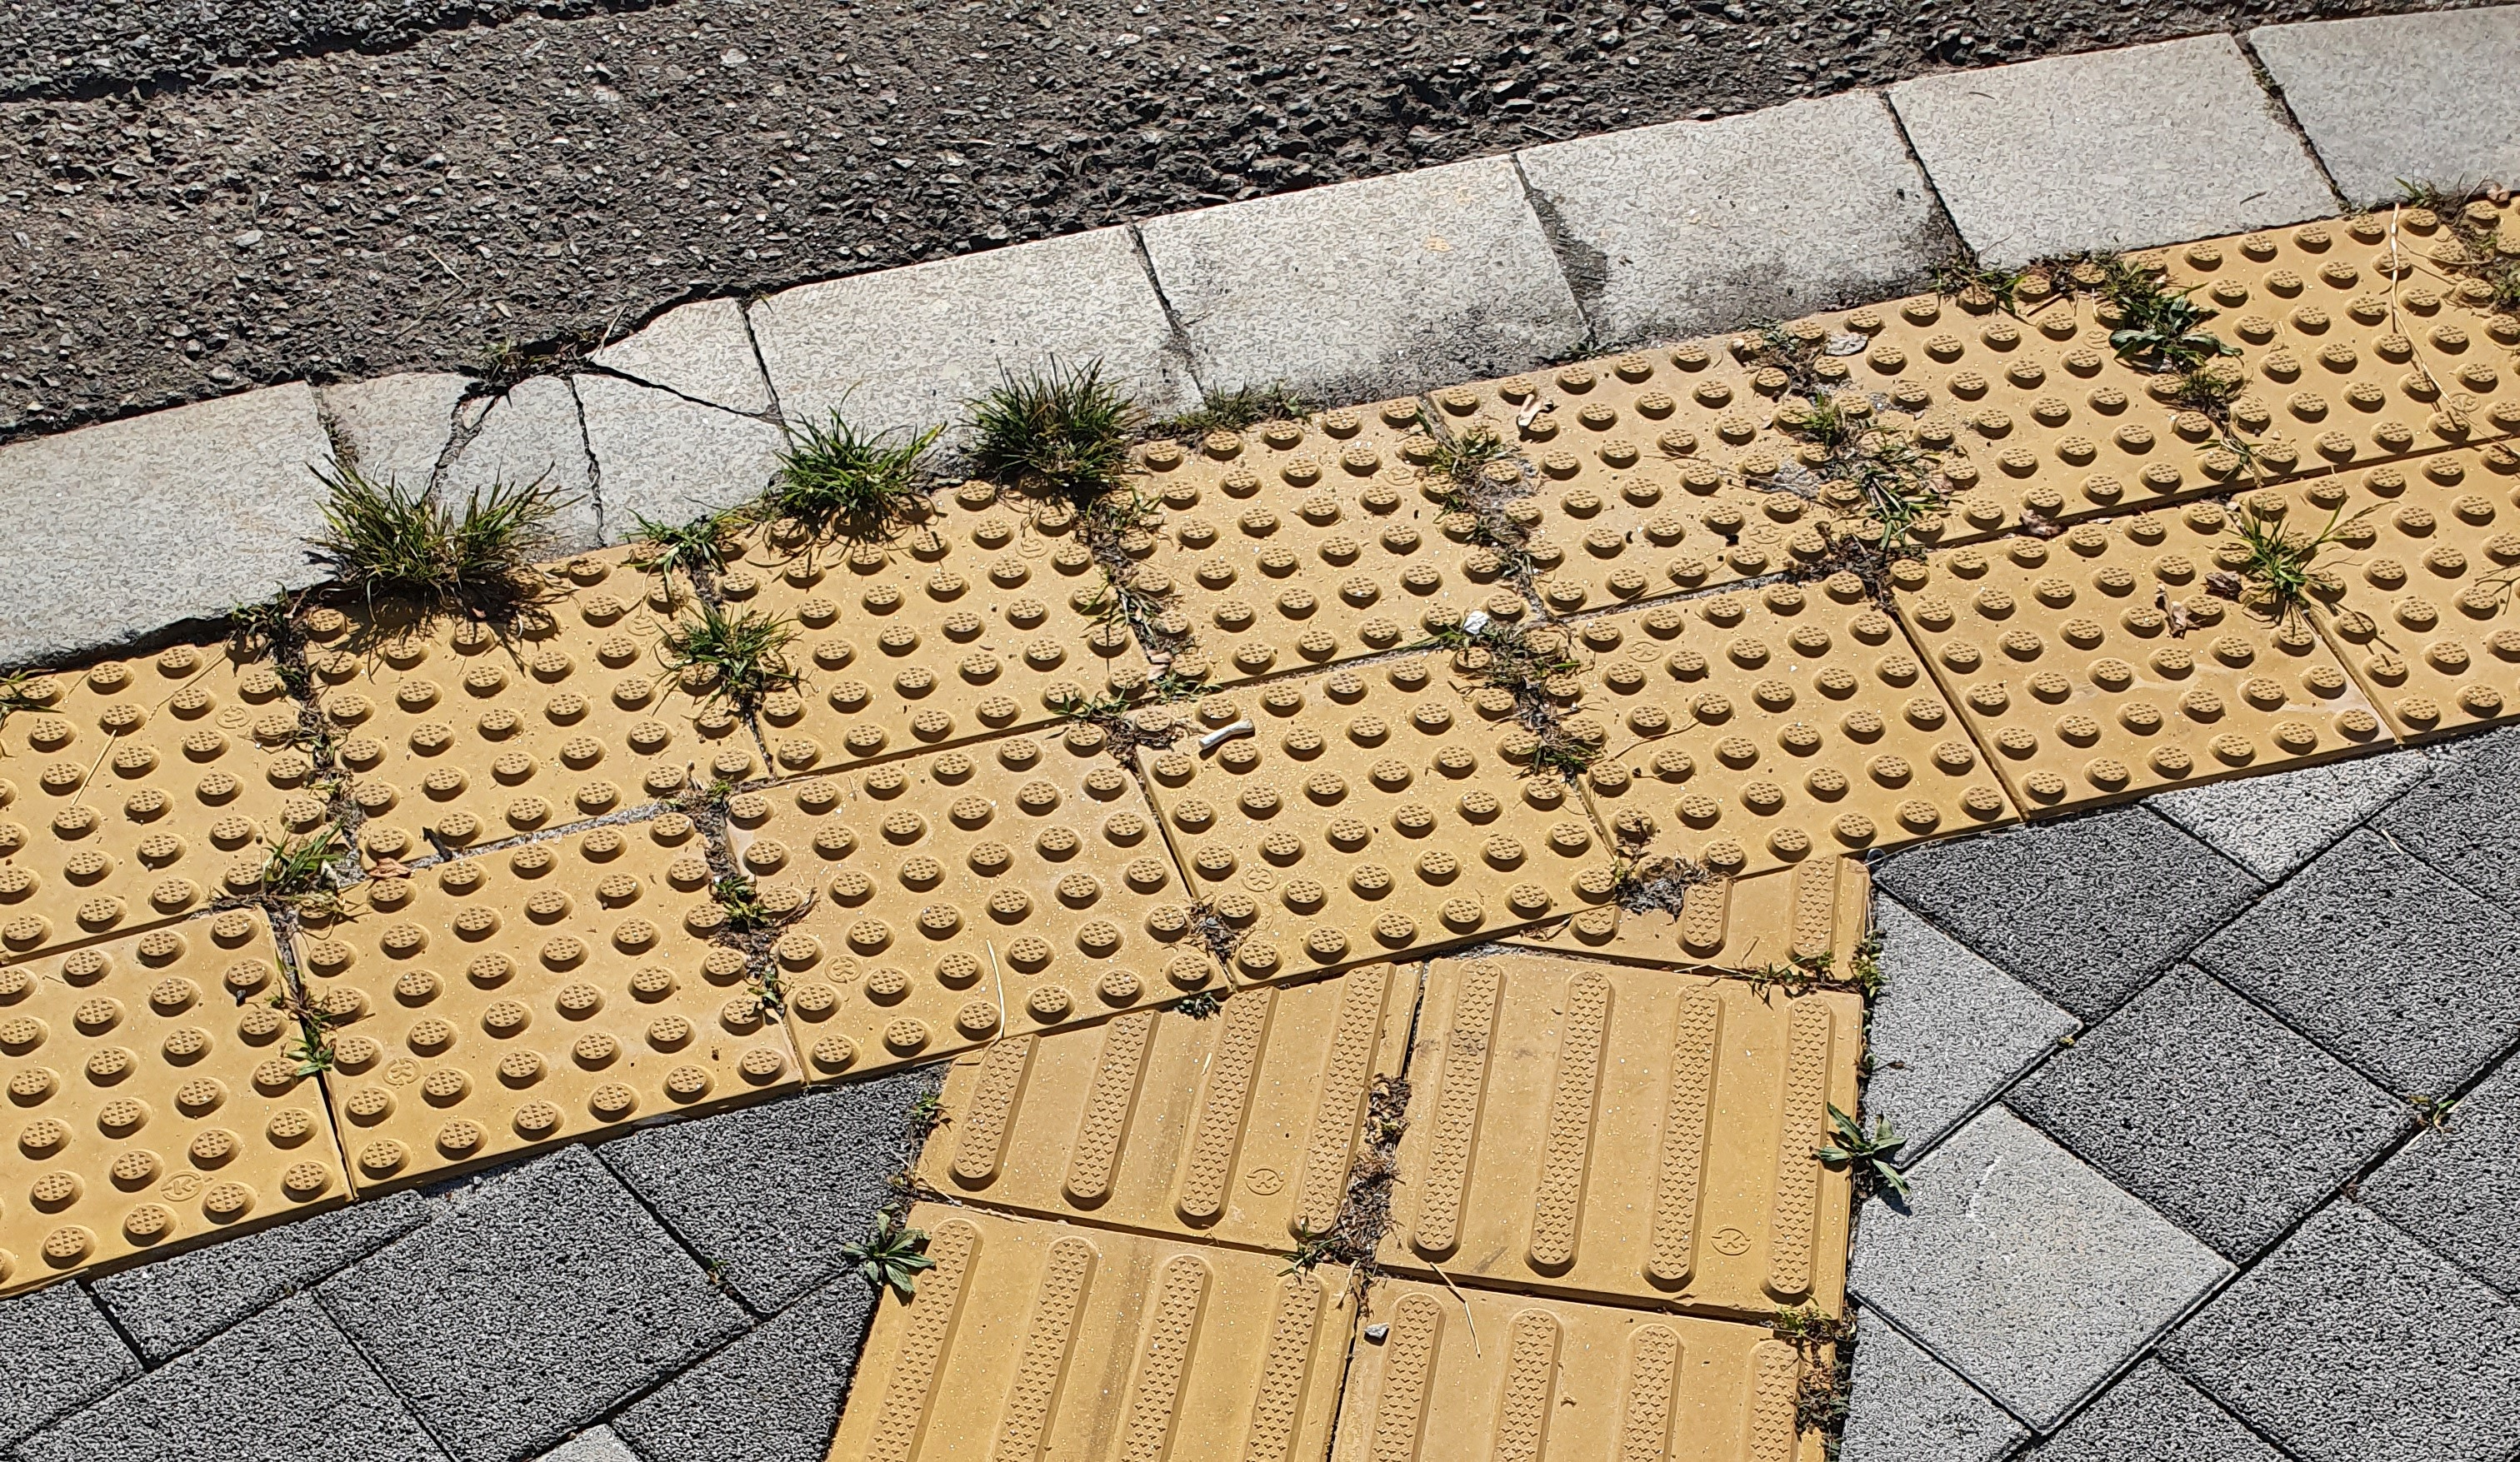guideBlock: (1363, 943, 1871, 1318), (868, 1232, 1382, 1462), (1364, 1278, 1838, 1462), (968, 1027, 1347, 1220)
warningBlock: (327, 849, 818, 1112), (1129, 675, 1585, 922), (1902, 501, 2308, 766), (10, 905, 362, 1187), (754, 747, 1156, 980), (1601, 587, 1942, 853), (350, 567, 726, 801), (1082, 430, 1457, 654), (1462, 372, 1838, 573), (1846, 289, 2181, 513), (754, 491, 1109, 701), (17, 635, 299, 868), (2285, 432, 2520, 707), (2228, 233, 2520, 439)
